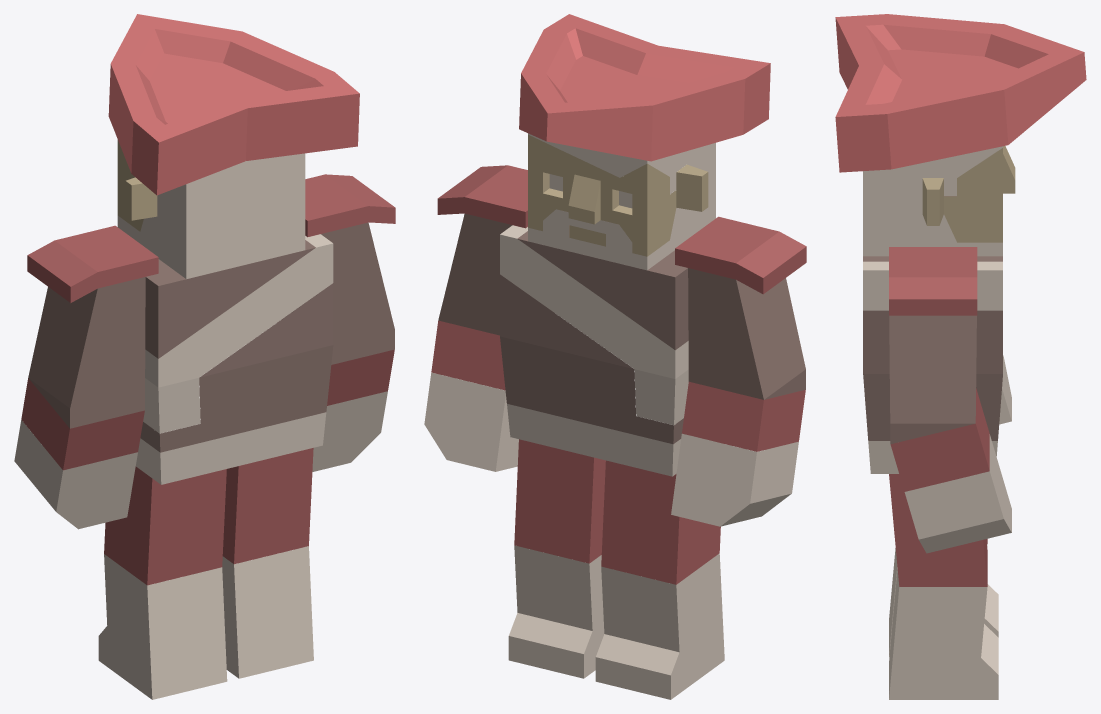
Rendered from pirate.gltf.
3 views of the same model, side by side, from view 1: azimuth 30°, elevation 25°; view 2: azimuth 150°, elevation 25°; view 3: azimuth 270°, elevation 25° (orthographic).
Visible parts, largest first — view 1: body, armLeft, Group_122001, legLeft, legRight, armRight, Group_122; view 2: body, armLeft, Group_122001, legLeft, armRight, legRight, Group_122; view 3: Group_122001, armRight, legRight, Group_122, body, legLeft, armLeft.
Boxes of the visible parts, x1,y1,x2,y2 form: body: (136,234,333,484); armLeft: (14,225,158,529); Group_122001: (108,14,359,195); legLeft: (98,466,227,699); legRight: (222,448,313,678); armRight: (305,174,395,471); Group_122: (117,140,305,278); body: (500,225,688,476); armLeft: (671,216,806,526); Group_122001: (519,14,770,161); legLeft: (595,460,724,699); armRight: (424,165,527,471); legRight: (508,439,605,678); Group_122: (528,133,715,270); Group_122001: (835,14,1086,172); armRight: (889,247,1011,553); legRight: (889,474,998,699); Group_122: (863,146,1015,256); body: (863,196,1002,473); legLeft: (889,539,998,656); armLeft: (999,355,1011,424).
Size of the model in its own units: 0.6239 by 1.09 by 0.4096.
